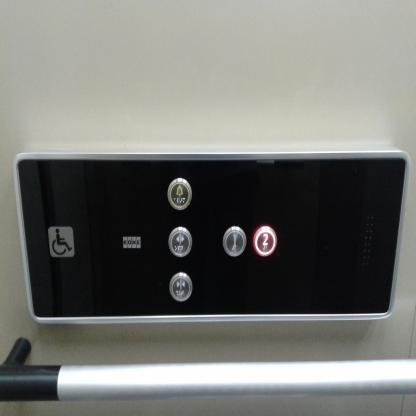1: (222, 224, 248, 258)
2: (251, 224, 278, 258)
CH: (47, 225, 76, 259)
alarm: (166, 176, 192, 211)
close: (168, 270, 193, 303)
open: (168, 225, 193, 258)
